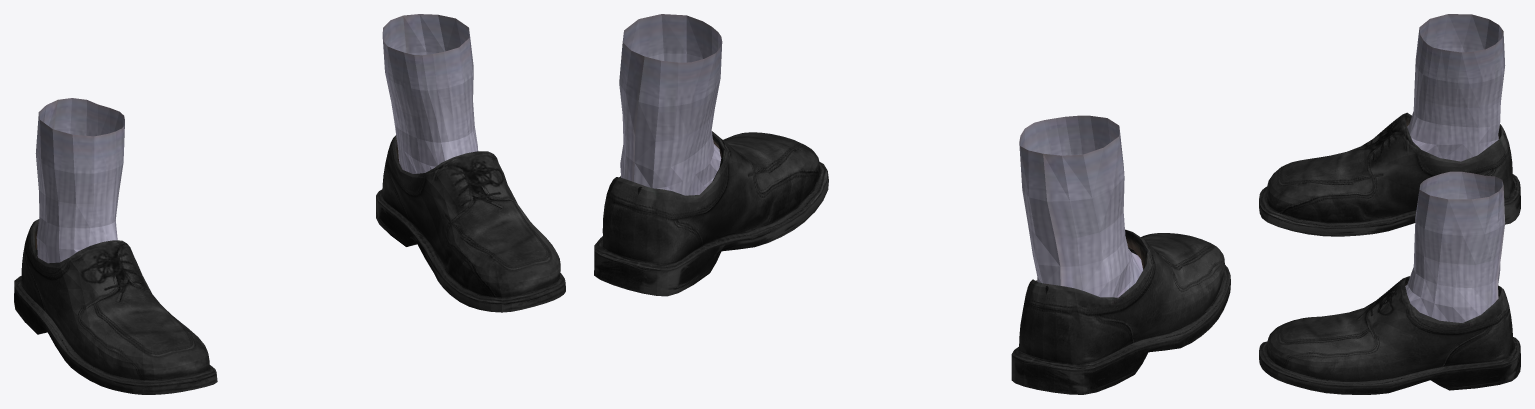
File: mhw_shoes04.glb
The picture shows the model from 3 angles, left to right: view 1: azimuth 30°, elevation 25°; view 2: azimuth 150°, elevation 25°; view 3: azimuth 270°, elevation 25°; orthographic projection. The views are drawn at different scales.
Visible parts, largest first — view 1: mhw_shoes04; view 2: mhw_shoes04; view 3: mhw_shoes04.
Part boxes in pixels (left/top/right/bottom): mhw_shoes04: left=14, top=14, right=565, bottom=394; mhw_shoes04: left=594, top=14, right=1230, bottom=394; mhw_shoes04: left=1259, top=14, right=1520, bottom=394.
Bounding box in the file's own units: 0.5375 × 0.2301 × 0.2895.
Materials: 1 (1 with a texture image).
